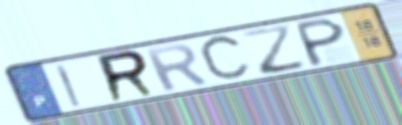C: (196, 32, 255, 85)
I: (52, 62, 84, 109)
P: (295, 15, 347, 69)
R: (94, 48, 160, 105), (140, 42, 211, 93)
Z: (238, 22, 311, 77)
